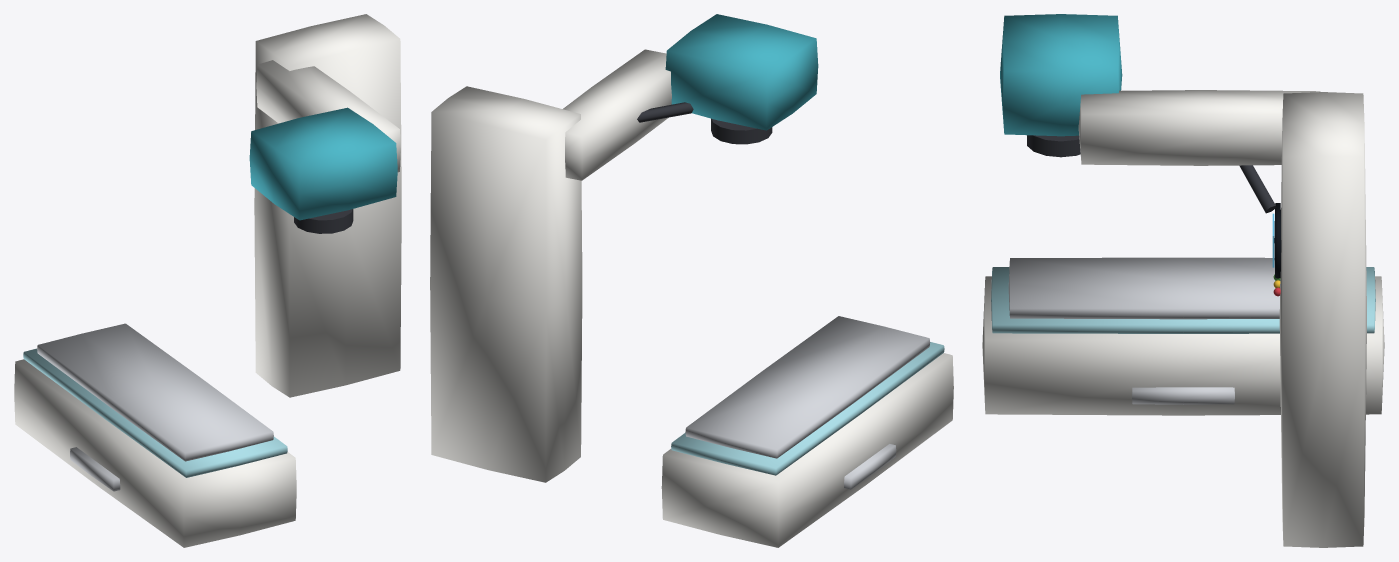
The model's file is xray_machine.glb.
3 views of the same model, side by side, from view 1: azimuth 30°, elevation 25°; view 2: azimuth 150°, elevation 25°; view 3: azimuth 270°, elevation 25° (orthographic). The views are drawn at different scales.
Visible parts, largest first — view 1: root; view 2: root; view 3: root.
Boxes of the visible parts, <box> form: root: <box>14,14,401,547</box>; root: <box>430,14,953,547</box>; root: <box>982,14,1384,547</box>.
Size of the model in its own units: 2.75 by 2.6 by 2.3.
